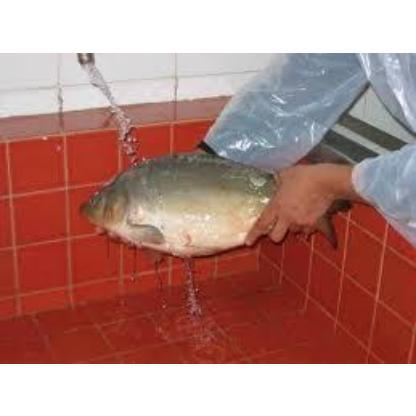ikan-mas: (81, 148, 338, 254)
